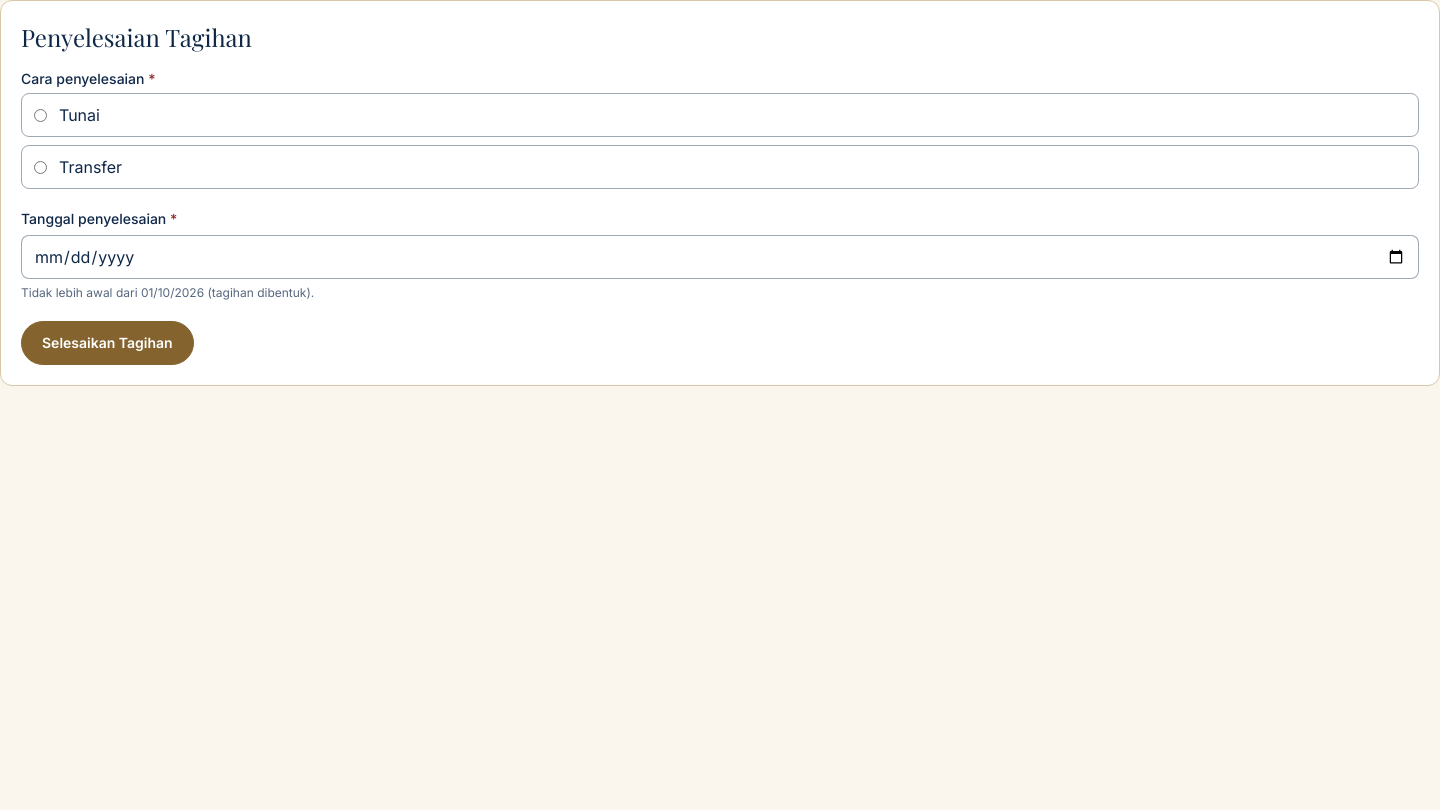
Penyelesaian (FR-TGH-02..04, OQ-08, OQ-28) › FR_TGH_02_nominal_tidak_sama_pesan_backend_apa_adanya (klien tidak membandingkan)
The width and height of the screenshot is (1440, 810).
Click the radio button labelled "Transfer": (40, 167) top-left (34, 160), bottom-right (47, 174)
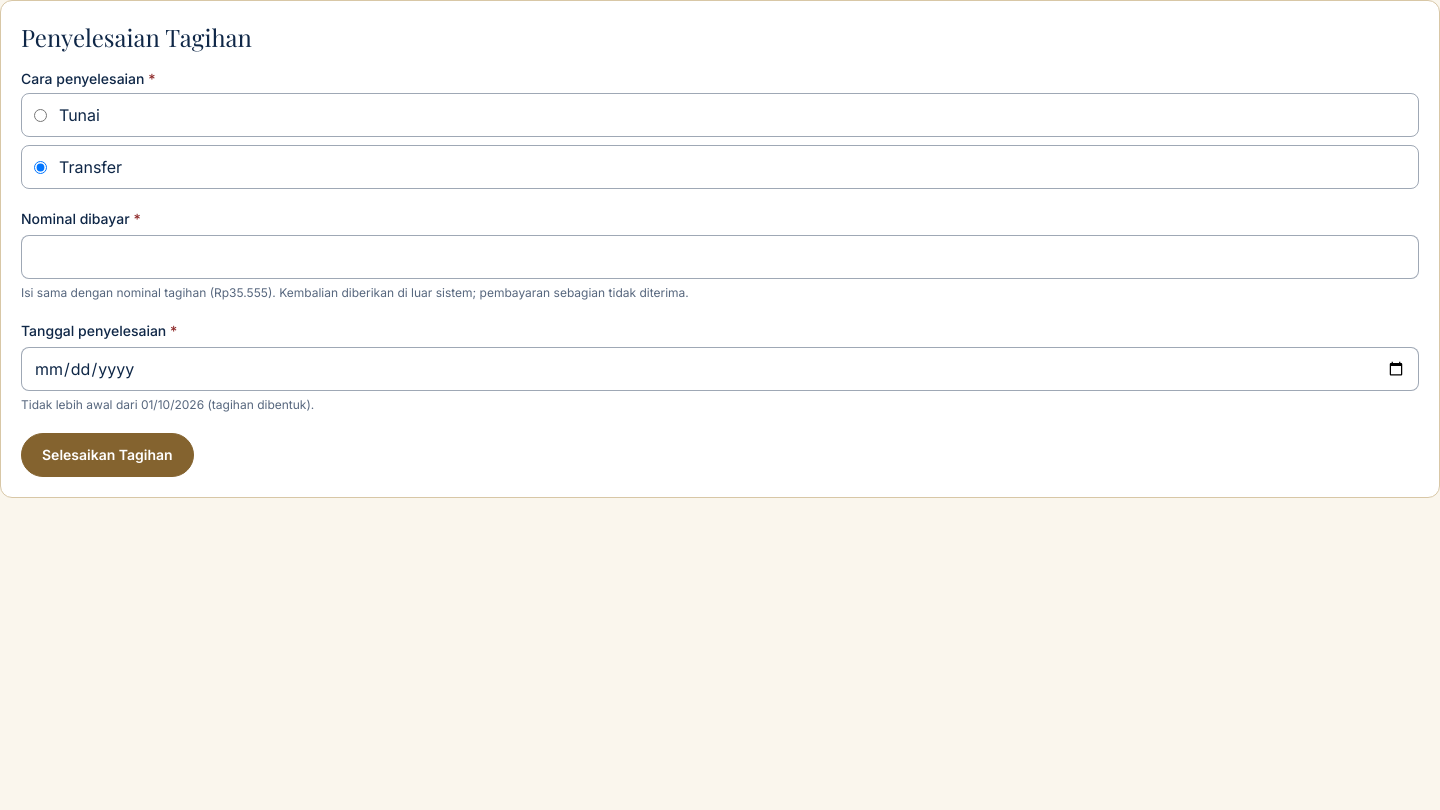
In the field labelled "Nominal dibayar *": (720, 257) top-left (21, 235), bottom-right (1419, 279), type "10000"
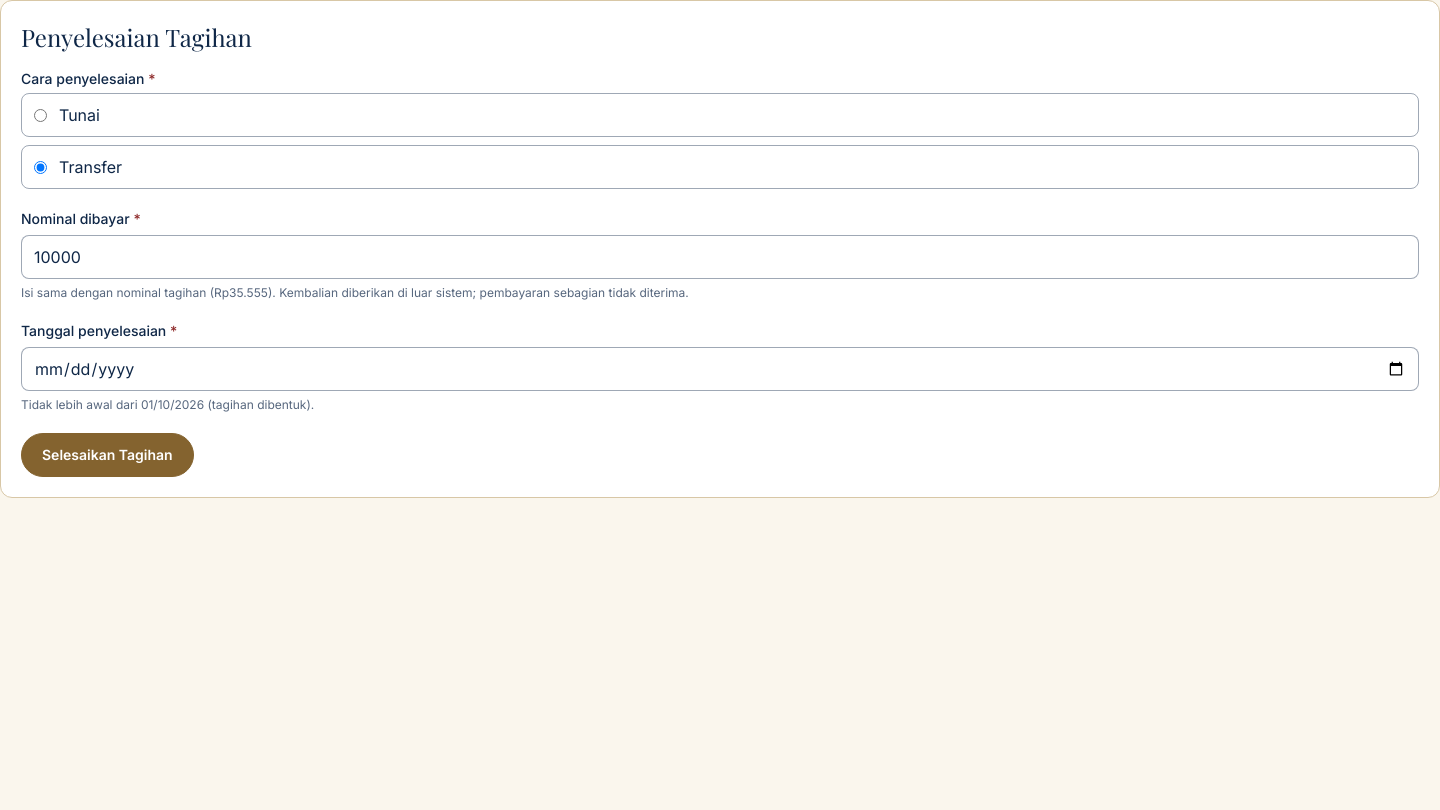
In the date field labelled "Tanggal penyelesaian *": (720, 369) top-left (21, 347), bottom-right (1419, 391), type "2026-10-05"
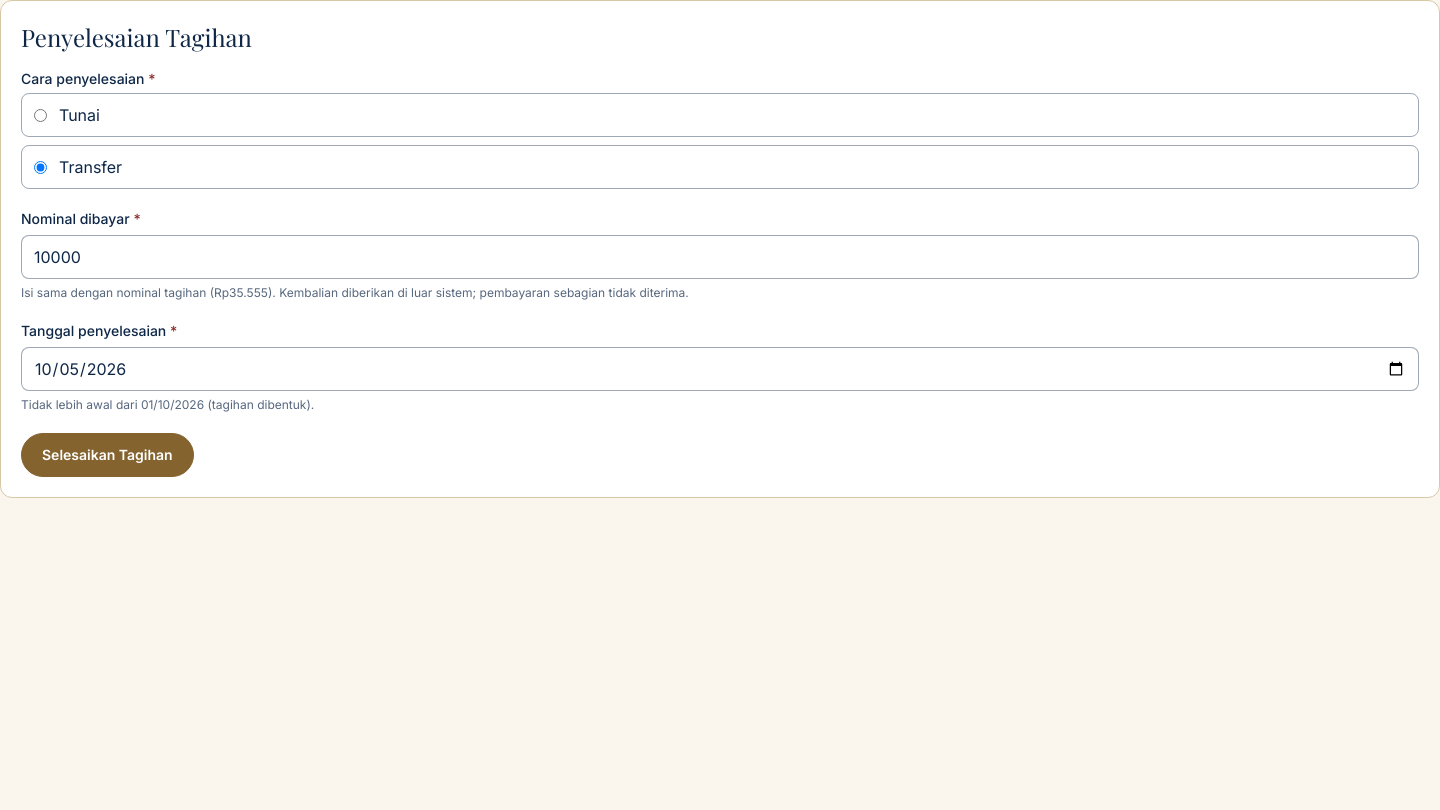
Click the button "Selesaikan Tagihan": (107, 455) top-left (21, 433), bottom-right (194, 477)
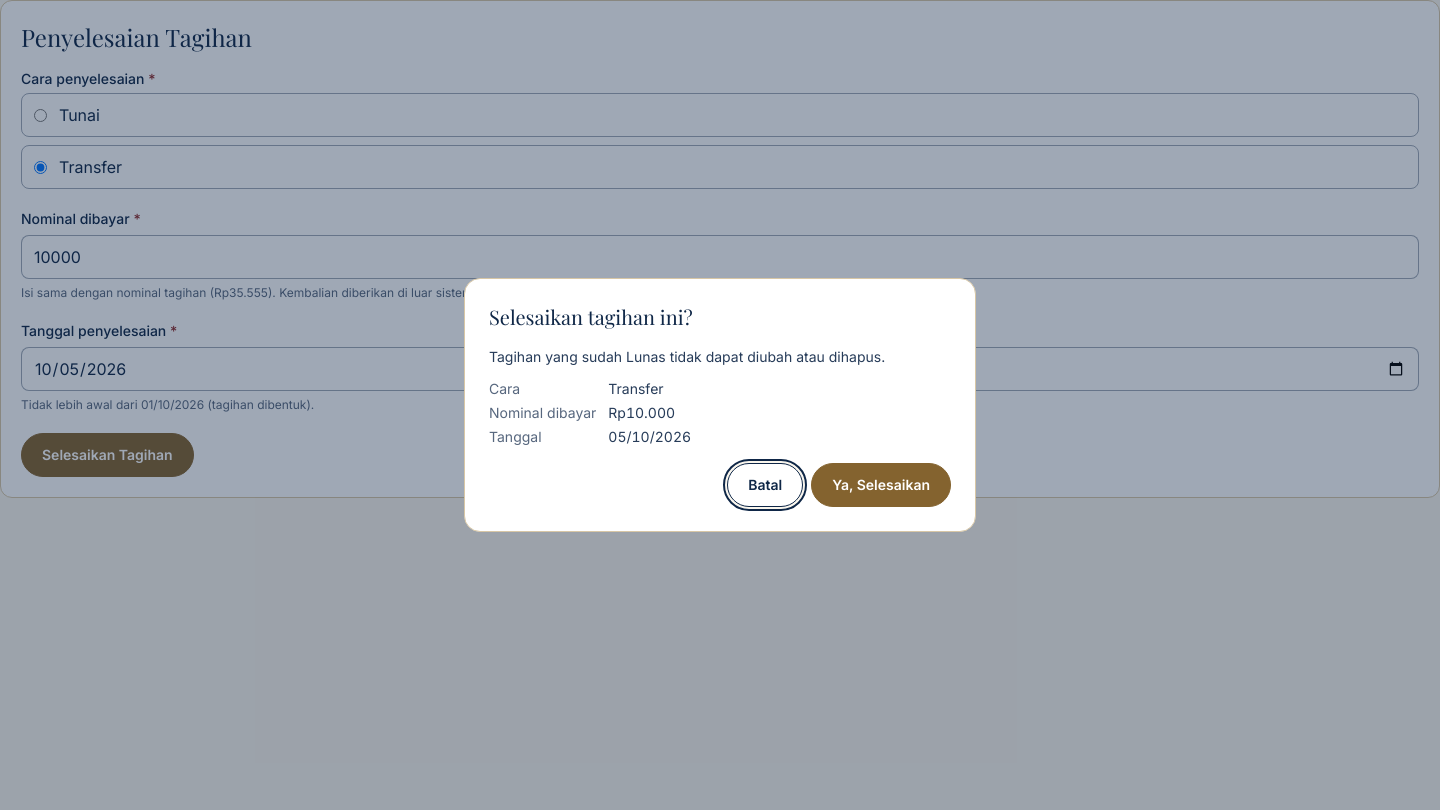
Click the button "Ya, Selesaikan": (881, 485) top-left (811, 463), bottom-right (951, 507)
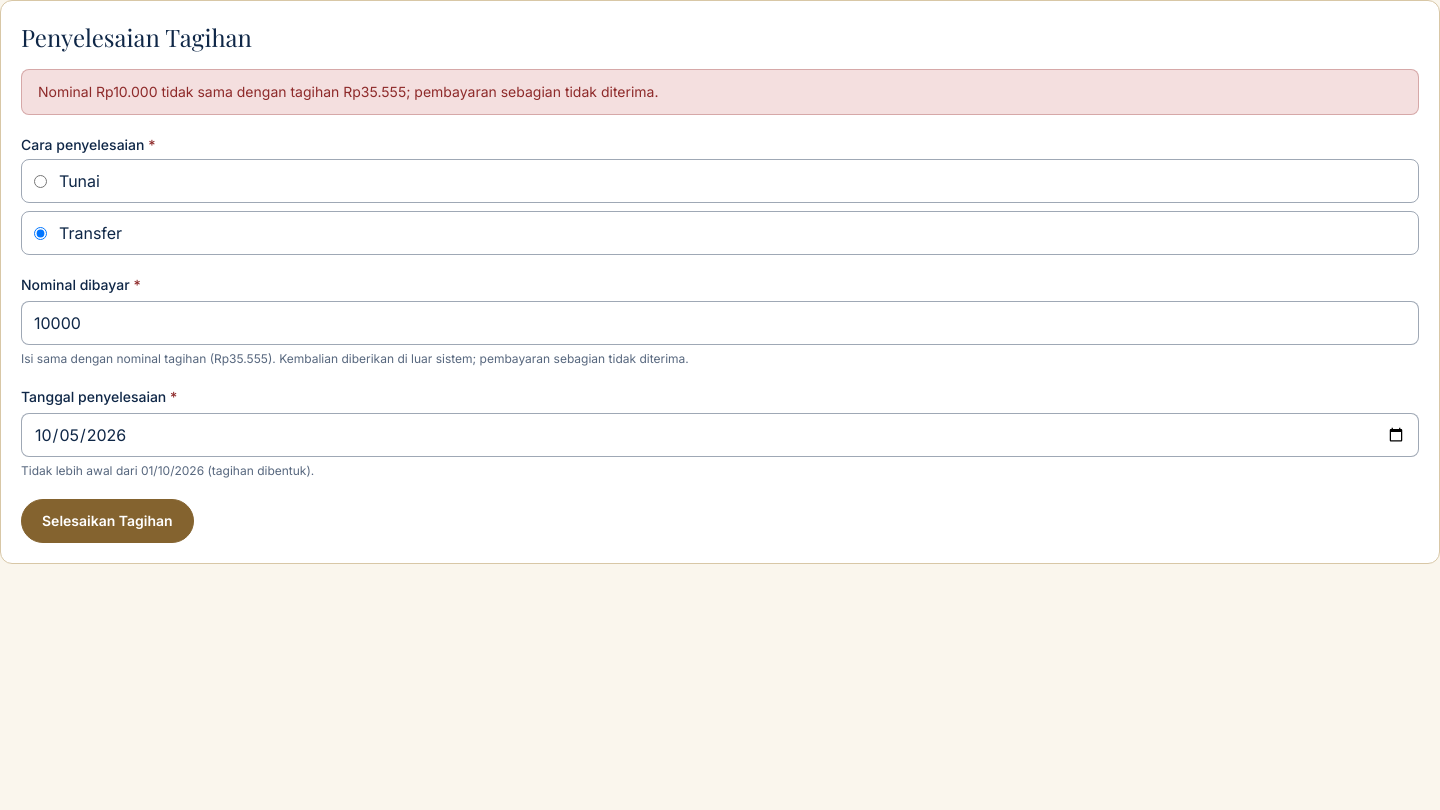
expect the message shows "Nominal Rp10.000 tidak sama dengan tagihan Rp35.555; pembayaran sebagian tidak diterima.": met, box top-left (38, 83), bottom-right (658, 100)
